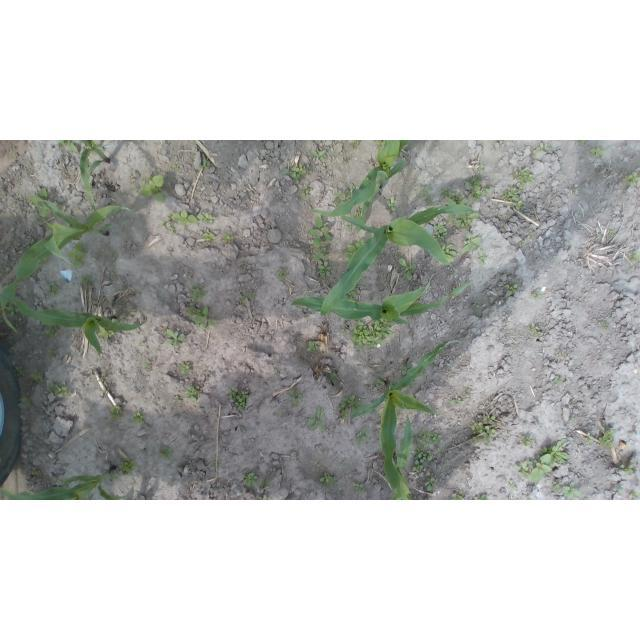Maize: (1, 195, 136, 334), (312, 204, 478, 317), (352, 338, 464, 500), (5, 294, 147, 356), (290, 280, 473, 326), (312, 141, 411, 216), (1, 465, 128, 500), (58, 140, 112, 212), (391, 409, 416, 500)
Weeds: (351, 319, 392, 349), (517, 454, 552, 482), (139, 175, 166, 204), (543, 438, 570, 466), (310, 216, 333, 247), (187, 307, 217, 330), (465, 175, 490, 201), (29, 188, 50, 218), (471, 419, 495, 445), (412, 446, 435, 473), (338, 395, 362, 420), (282, 164, 312, 184), (228, 388, 250, 411), (553, 482, 581, 500), (345, 239, 367, 261), (503, 187, 524, 210), (449, 213, 479, 229), (67, 243, 86, 268), (333, 184, 356, 204), (46, 381, 72, 398), (308, 407, 326, 431), (441, 189, 467, 205), (513, 169, 536, 187), (164, 329, 185, 348), (462, 233, 481, 254), (399, 259, 416, 282), (416, 430, 442, 445), (171, 210, 197, 225), (598, 426, 615, 448), (289, 386, 307, 406), (189, 283, 208, 301), (432, 222, 448, 242), (183, 386, 201, 403), (441, 243, 456, 262), (161, 215, 176, 234), (531, 142, 550, 156), (119, 458, 135, 473), (242, 472, 258, 486), (133, 408, 147, 424), (623, 172, 640, 185), (558, 350, 575, 363), (110, 404, 123, 420), (318, 261, 331, 277), (356, 428, 368, 445), (529, 323, 543, 337), (260, 475, 273, 490), (99, 328, 115, 340), (198, 213, 215, 224), (519, 436, 535, 447), (310, 151, 326, 162), (352, 482, 365, 495), (45, 325, 59, 337), (158, 447, 173, 458), (424, 478, 436, 491), (31, 370, 44, 382), (198, 157, 211, 169), (314, 248, 326, 261), (415, 186, 429, 197), (48, 282, 59, 296), (591, 147, 606, 157), (386, 197, 396, 212), (180, 363, 192, 375), (38, 256, 50, 268), (478, 250, 487, 266), (505, 285, 518, 296), (300, 185, 313, 196), (620, 464, 634, 474), (628, 251, 640, 262), (450, 395, 462, 406), (307, 341, 319, 352), (320, 473, 333, 483), (402, 365, 413, 376), (224, 233, 235, 244), (276, 269, 287, 280), (478, 413, 495, 420), (203, 233, 216, 242), (16, 369, 29, 378), (6, 150, 19, 159), (344, 292, 357, 301), (570, 185, 581, 195), (599, 320, 610, 330), (532, 289, 543, 299), (452, 491, 464, 500), (508, 480, 518, 490), (21, 399, 32, 408), (374, 140, 385, 149), (80, 275, 91, 284), (375, 378, 385, 387), (630, 492, 640, 501), (349, 140, 359, 149), (329, 373, 338, 383), (629, 451, 640, 459), (585, 433, 593, 444), (99, 374, 110, 382), (463, 386, 470, 398), (141, 359, 149, 369), (555, 375, 563, 385), (236, 265, 247, 272), (24, 239, 36, 245), (354, 208, 362, 217), (248, 292, 256, 300), (173, 396, 182, 403), (529, 230, 536, 239), (239, 296, 246, 305), (474, 495, 486, 500), (273, 369, 280, 377), (211, 460, 218, 468), (138, 340, 146, 347), (128, 309, 136, 316), (102, 388, 110, 395), (478, 165, 485, 173), (173, 164, 180, 172), (609, 229, 618, 235), (111, 252, 118, 259), (426, 200, 434, 206), (95, 143, 103, 149), (58, 205, 66, 211), (45, 349, 53, 355), (259, 496, 268, 501), (276, 411, 282, 418), (240, 426, 246, 433), (340, 461, 346, 468), (615, 489, 621, 496), (437, 445, 443, 452), (506, 214, 511, 222), (110, 272, 116, 278), (571, 416, 578, 421), (446, 368, 451, 375), (31, 471, 39, 475), (471, 304, 479, 308), (340, 328, 346, 333), (578, 141, 588, 144), (345, 225, 352, 229), (610, 170, 615, 175), (520, 241, 525, 246), (499, 140, 504, 144), (370, 296, 374, 300)
